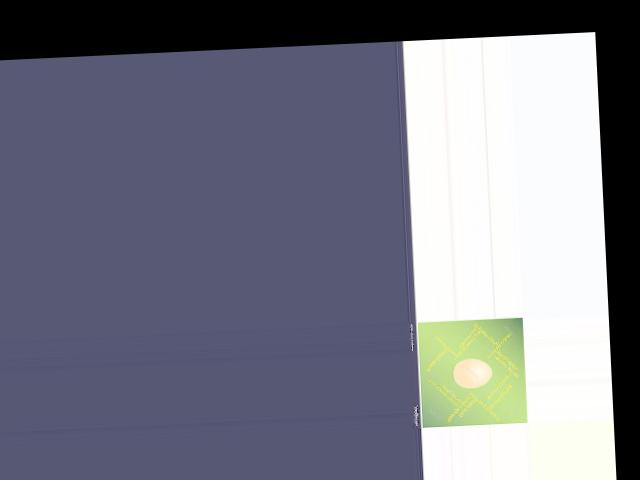egg: (453, 357, 492, 388)
